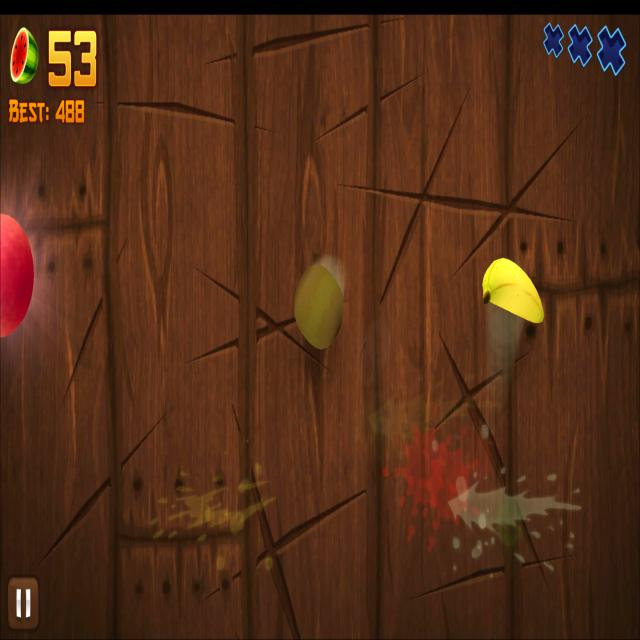fruit: (480, 255, 546, 325), (293, 263, 344, 351), (0, 212, 34, 340)
